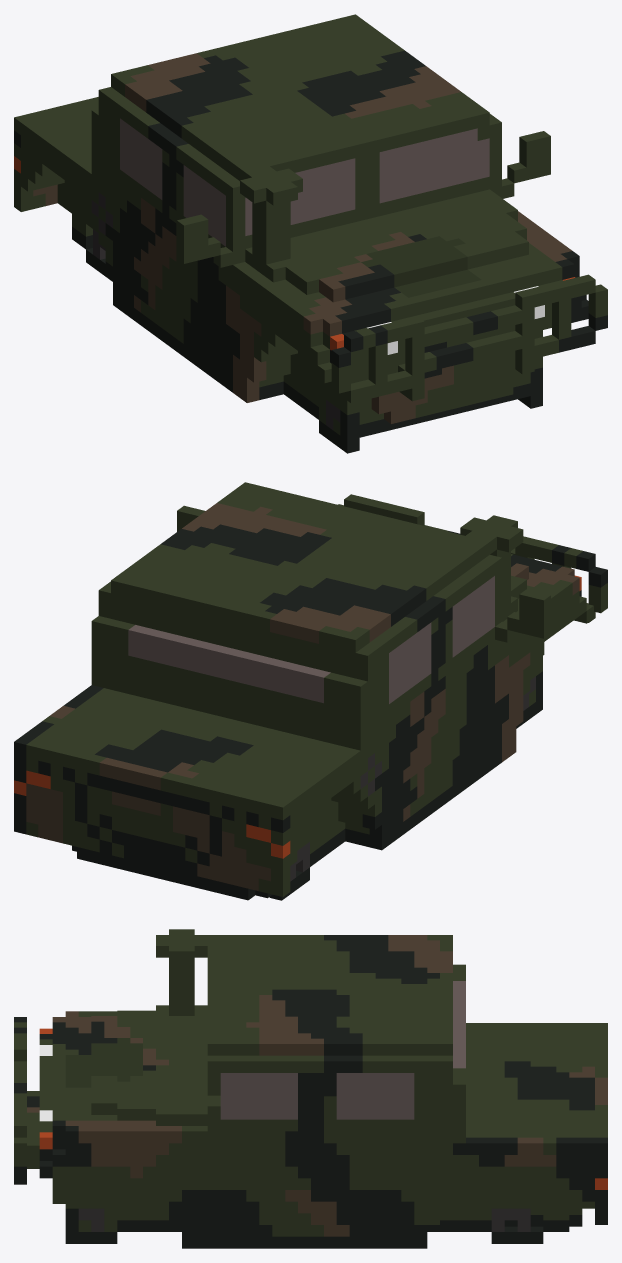
The model's file is car.obj.
3 views of the same model, one above another, from view 1: azimuth 30°, elevation 25°; view 2: azimuth 150°, elevation 25°; view 3: azimuth 270°, elevation 25° (orthographic). The views are drawn at different scales.
Visible parts, largest first — view 1: hamvy_haki_withot_wheels; view 2: hamvy_haki_withot_wheels; view 3: hamvy_haki_withot_wheels.
Boxes of the visible parts, <box> form: hamvy_haki_withot_wheels: <box>14,14,607,453</box>; hamvy_haki_withot_wheels: <box>14,482,607,900</box>; hamvy_haki_withot_wheels: <box>14,929,607,1248</box>.
Size of the model in its own units: 3 by 1.8 by 4.6.
